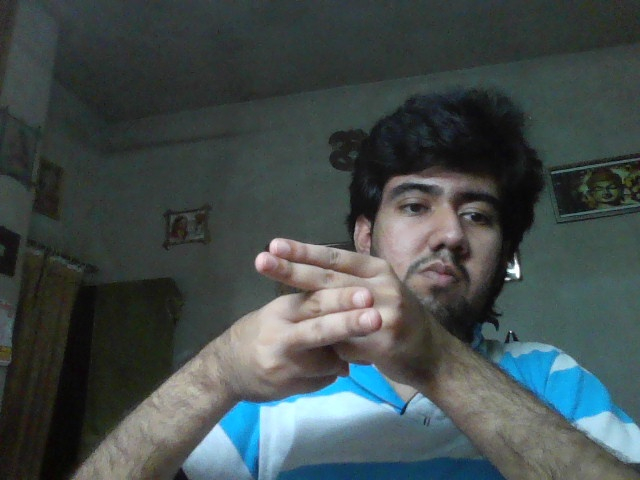Name: (228, 237, 429, 403)
